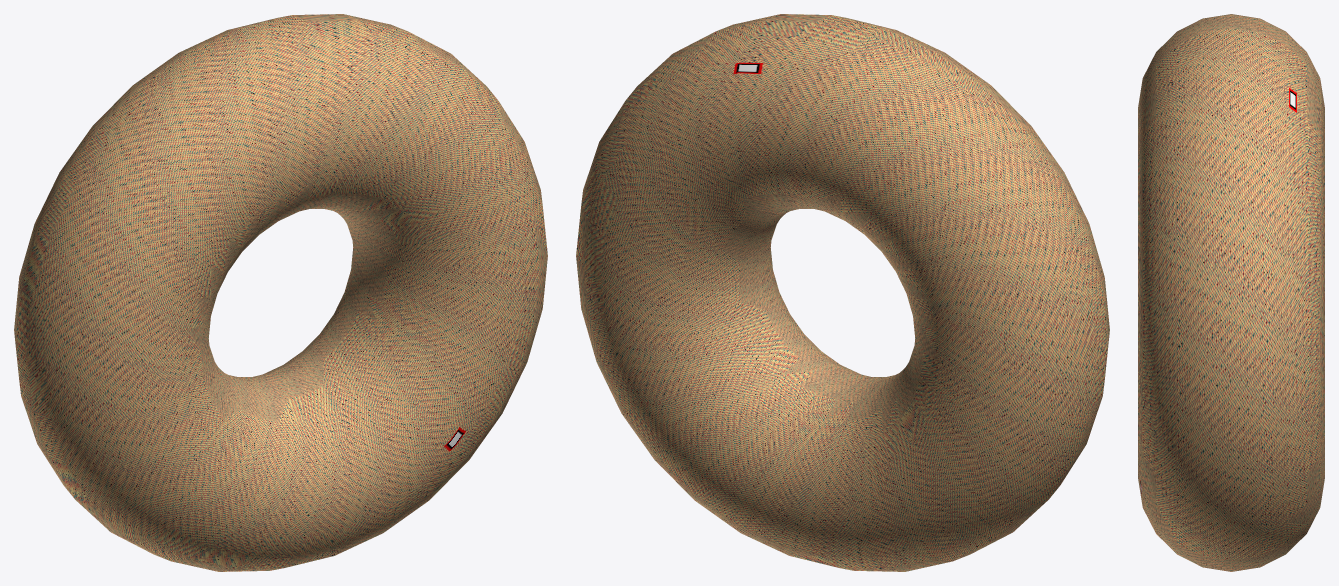
Rendered from uv_checkerboard_res_1024_iter_11_cat_map.glb.
3 views of the same model, side by side, from view 1: azimuth 30°, elevation 25°; view 2: azimuth 150°, elevation 25°; view 3: azimuth 270°, elevation 25° (orthographic). The views are drawn at different scales.
Parts seen in each view (by area): view 1: Node; view 2: Node; view 3: Node.
Boxes of the visible parts, x1,y1,x2,y2 form: Node: [14, 14, 547, 571]; Node: [576, 14, 1109, 571]; Node: [1138, 14, 1324, 571].
Bounding box in the file's own units: 3 × 2.98 × 1.
1 material, 1 textured.
